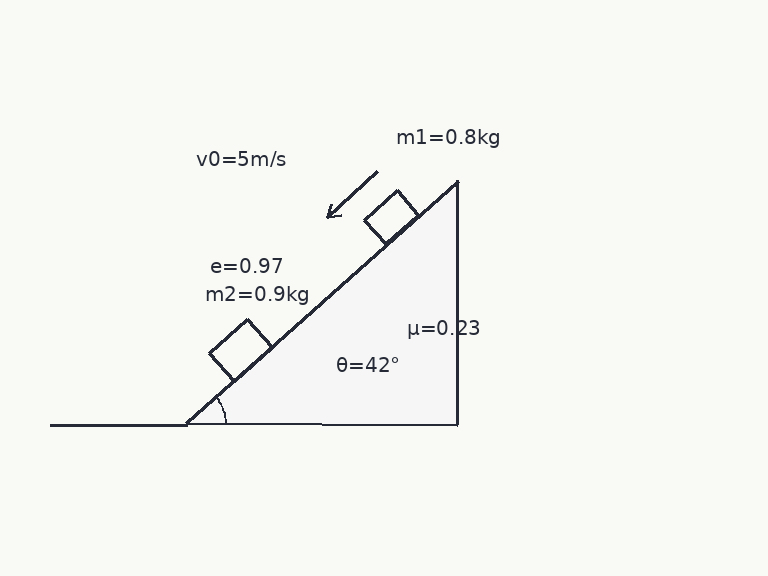block: (207, 317, 274, 383), (362, 188, 421, 246)
ramp: (184, 178, 458, 426)
